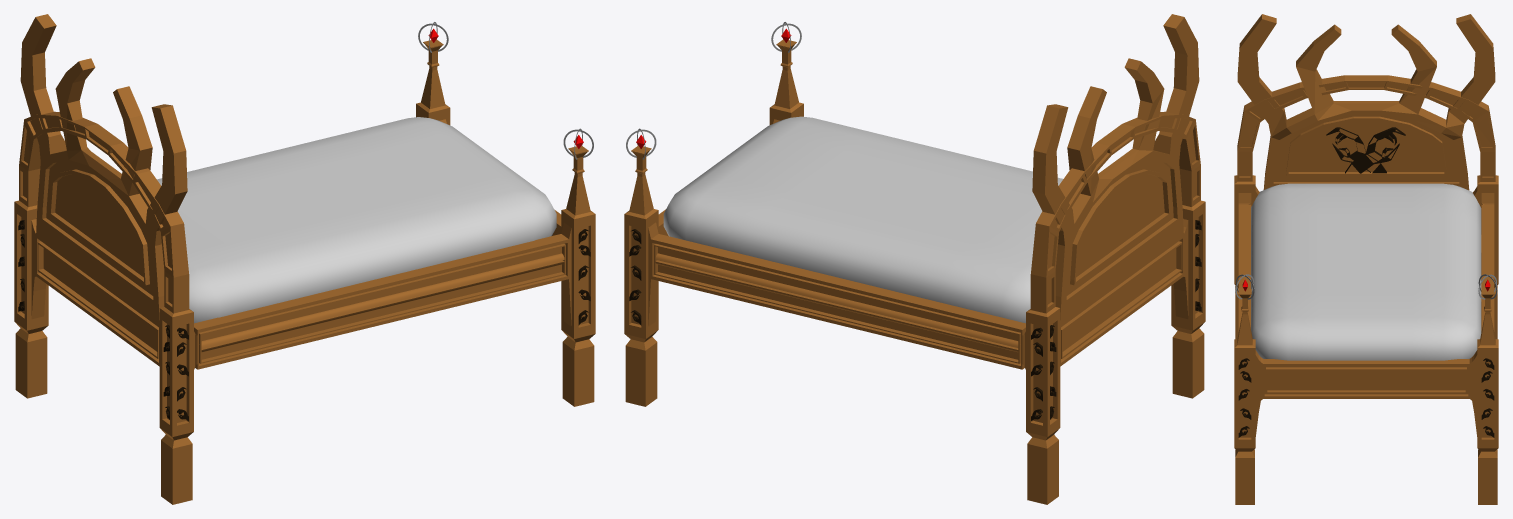
The model's file is bed.FBX.
3 views of the same model, side by side, from view 1: azimuth 30°, elevation 25°; view 2: azimuth 150°, elevation 25°; view 3: azimuth 270°, elevation 25° (orthographic). The views are drawn at different scales.
Visible parts, largest first — view 1: Object001, ChamferBox001, Object007, Object009, Object010; view 2: Object001, ChamferBox001, Object008, Object010, Object009; view 3: Object001, ChamferBox001, Object007, Object008, Object006, Object004.
Part boxes in pixels (bbox=[...]): Object001: bbox=[14, 14, 595, 448]; ChamferBox001: bbox=[157, 117, 556, 323]; Object007: bbox=[562, 342, 594, 406]; Object009: bbox=[15, 334, 47, 398]; Object010: bbox=[161, 440, 192, 504]; Object001: bbox=[624, 14, 1205, 448]; ChamferBox001: bbox=[663, 116, 1063, 323]; Object008: bbox=[625, 342, 657, 406]; Object010: bbox=[1172, 334, 1204, 398]; Object009: bbox=[1027, 440, 1058, 504]; Object001: bbox=[1234, 14, 1498, 457]; ChamferBox001: bbox=[1251, 183, 1481, 360]; Object007: bbox=[1235, 458, 1254, 504]; Object008: bbox=[1478, 458, 1497, 504]; Object006: bbox=[1345, 127, 1405, 173]; Object004: bbox=[1326, 127, 1386, 173].
Size of the model in its own units: 177 by 153 by 114.
